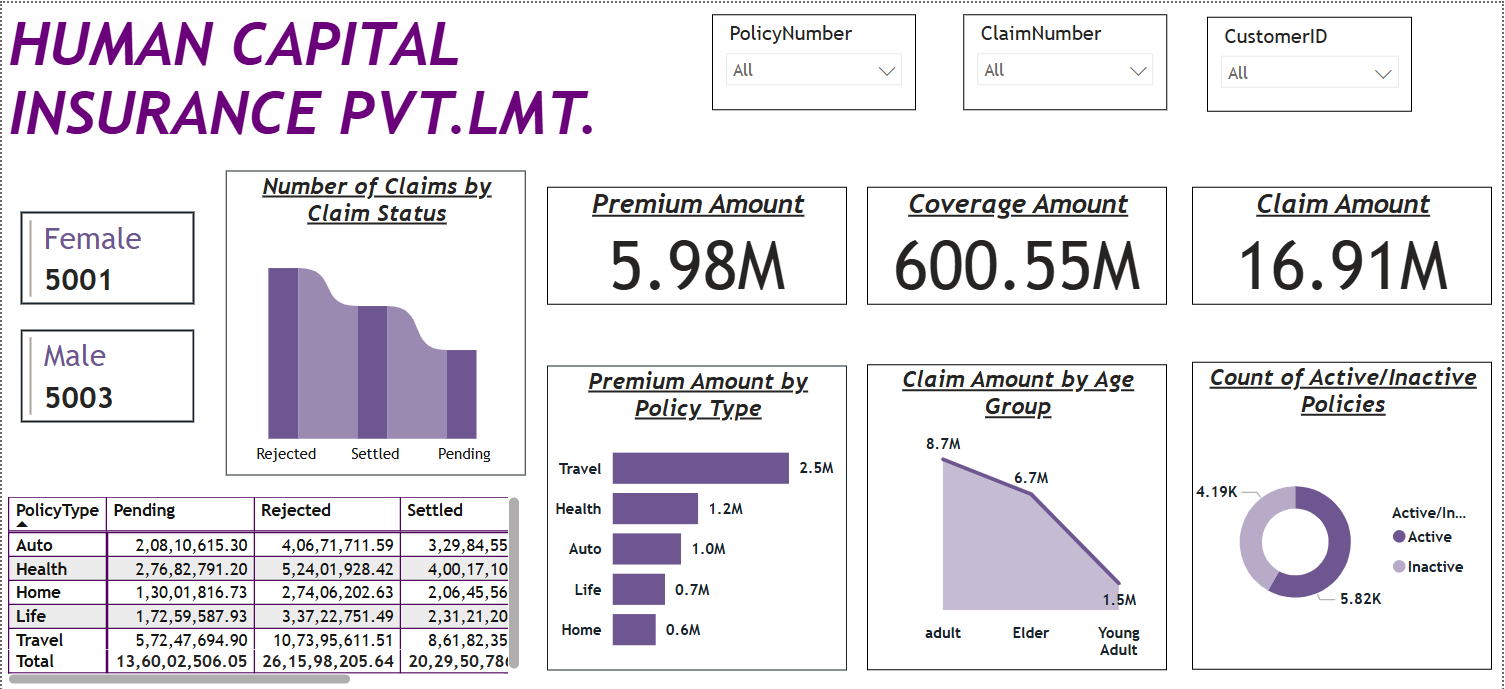

This screenshot's page, from the dashboard's own definition file:
{"tool":"powerbi","page":{"name":"Page 1","canvas":[1200,550],"ordinal":0},"visuals":[{"type":"slicer","fields":{"Values":["InsuranceData.ClaimNumber"]},"box":[768.9,8.9,163.3,76.7],"z":0},{"type":"slicer","fields":{"Values":["InsuranceData.CustomerID"]},"box":[964.4,11.1,163.3,75.6],"z":1000},{"type":"slicer","fields":{"Values":["InsuranceData.PolicyNumber"]},"box":[567.8,8.9,163.3,76.7],"z":2000},{"type":"textbox","box":[0,0,495.6,173.3],"z":3000},{"type":"card","title":"Premium Amount","fields":{"Values":["Sum(InsuranceData.PremiumAmount)"]},"box":[435.6,146.7,240,94.4],"z":4000},{"type":"multiRowCard","fields":{"Values":["InsuranceData.Gender","CountNonNull(InsuranceData.Gender)"]},"box":[10,162.2,148.9,215.6],"z":5000},{"type":"card","title":"Coverage Amount","fields":{"Values":["Sum(InsuranceData.CoverageAmount)"]},"box":[692.2,146.7,240,94.4],"z":6000},{"type":"card","title":"Claim Amount","fields":{"Values":["Sum(InsuranceData.ClaimAmount)"]},"box":[952.2,146.7,240,94.4],"z":7000},{"type":"ribbonChart","title":"Number of Claims by Claim Status","fields":{"Category":["InsuranceData.ClaimStatus"],"Y":["CountNonNull(InsuranceData.ClaimStatus)"]},"box":[178.9,134.4,240,243.3],"z":8000},{"type":"barChart","title":" Premium Amount by Policy Type","fields":{"Category":["InsuranceData.PolicyType"],"Y":["Sum(InsuranceData.PremiumAmount)"]},"box":[435.6,290,240,244.4],"z":9000},{"type":"lineChart","title":"Claim Amount by Age Group","fields":{"Category":["InsuranceData.Age Group"],"Y":["Sum(InsuranceData.ClaimAmount)"]},"box":[692.2,288.9,240,245.6],"z":10000},{"type":"donutChart","title":"Count of Active/Inactive Policies","fields":{"Category":["InsuranceData.Active/Inactive"],"Y":["CountNonNull(InsuranceData.Active/Inactive)"]},"box":[952.2,286.7,240,246.7],"z":11000},{"type":"pivotTable","title":"Count of Active/Inactive Policies","fields":{"Rows":["InsuranceData.PolicyType"],"Columns":["InsuranceData.ClaimStatus"],"Values":["Sum(InsuranceData.CoverageAmount)"]},"box":[0,390,418.9,160],"z":12000}]}

Visuals, with their boxes in screenshot pixels (x1, y1, x2, y2), scaled from the page's 1200x550 canvas onto the 1505x689 screenshot:
slicer - InsuranceData.ClaimNumber: pyautogui.locateOnScreen(964, 11, 1169, 107)
slicer - InsuranceData.CustomerID: pyautogui.locateOnScreen(1210, 14, 1414, 109)
slicer - InsuranceData.PolicyNumber: pyautogui.locateOnScreen(712, 11, 917, 107)
textbox: pyautogui.locateOnScreen(0, 0, 622, 217)
"Premium Amount" card: pyautogui.locateOnScreen(546, 184, 847, 302)
multiRowCard - InsuranceData.Gender x CountNonNull(InsuranceData.Gender): pyautogui.locateOnScreen(13, 203, 199, 473)
"Coverage Amount" card: pyautogui.locateOnScreen(868, 184, 1169, 302)
"Claim Amount" card: pyautogui.locateOnScreen(1194, 184, 1495, 302)
"Number of Claims by Claim Status" ribbonChart: pyautogui.locateOnScreen(224, 168, 525, 473)
" Premium Amount by Policy Type" barChart: pyautogui.locateOnScreen(546, 363, 847, 669)
"Claim Amount by Age Group" lineChart: pyautogui.locateOnScreen(868, 362, 1169, 670)
"Count of Active/Inactive Policies" donutChart: pyautogui.locateOnScreen(1194, 359, 1495, 668)
"Count of Active/Inactive Policies" pivotTable: pyautogui.locateOnScreen(0, 489, 525, 688)
